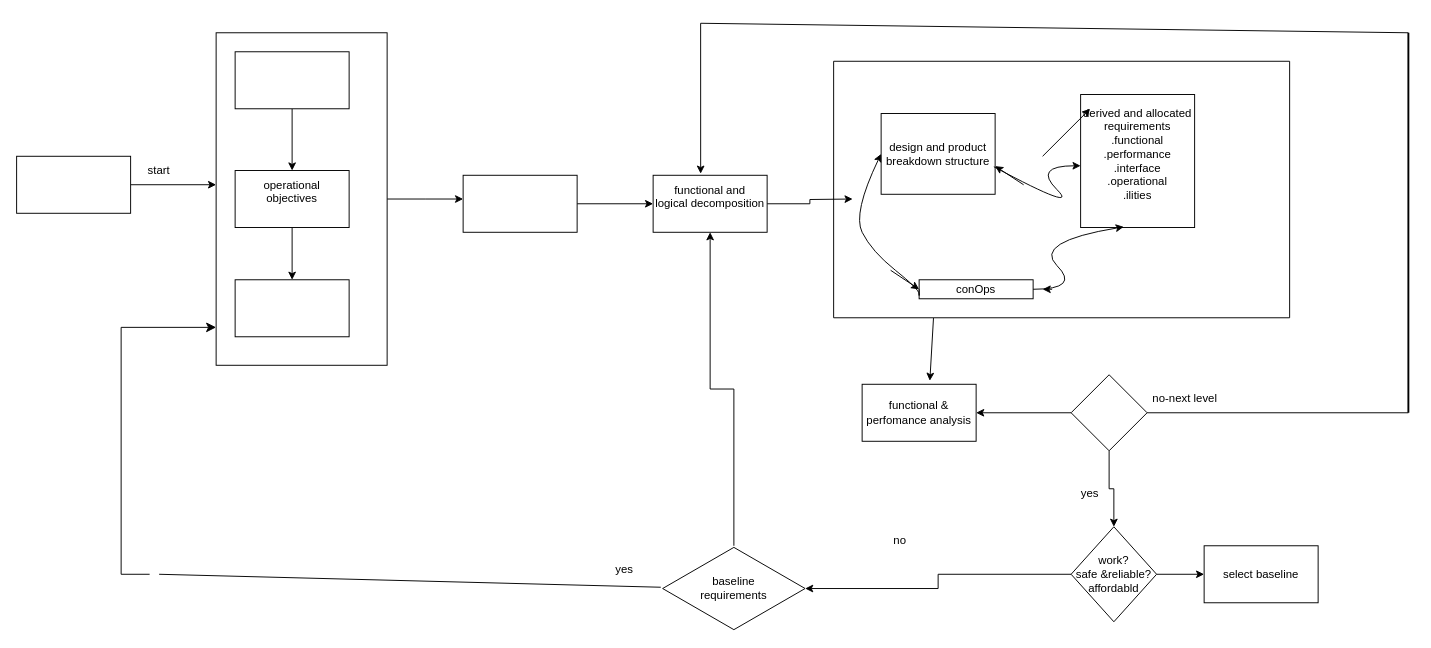
Some shapes in this 1431 by 648 pixel diagram are drawn without their labels. Here are the shapes that lost their labels. From the top down, the box of each, then its label:
(234, 51, 349, 109): mission objectives & constraints
(16, 155, 131, 213): mission authority
(462, 174, 577, 232): high-level requirements
(234, 279, 349, 337): mission success criteria
(1070, 374, 1147, 451): sufficient depth?
